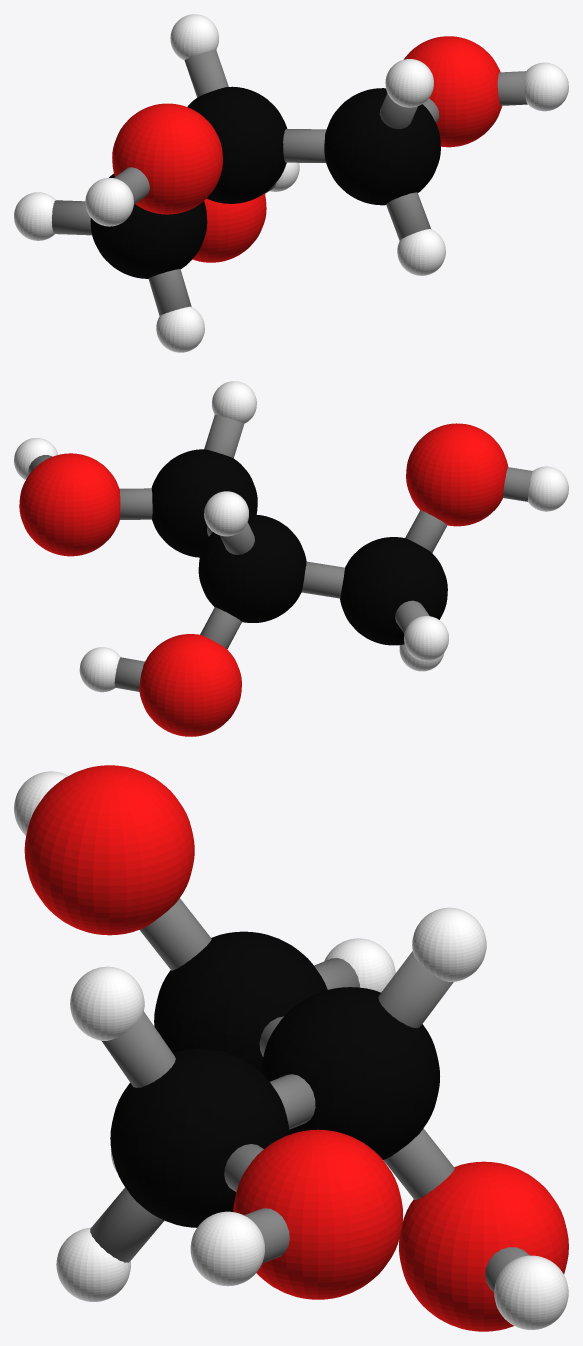
The model's file is GLICERINA.obj.
3 views of the same model, one above another, from view 1: azimuth 30°, elevation 25°; view 2: azimuth 150°, elevation 25°; view 3: azimuth 270°, elevation 25° (orthographic). The views are drawn at different scales.
Parts seen in each view (by area): view 1: Carbon_ball_Sphere, Oxygen_ball_Sphere.002, Hydrogen_ball_Sphere.001, Stick_Cylinder_Cylinder, Stick_Cylinder.009_Cylinder.009, Stick_Cylinder.002_Cylinder.002, Stick_Cylinder.007_Cylinder.007, Stick_Cylinder.006_Cylinder.006, Stick_Cylinder.004_Cylinder.004, Stick_Cylinder.001_Cylinder.001, Stick_Cylinder.011_Cylinder.011; view 2: Oxygen_ball_Sphere.002, Carbon_ball_Sphere, Hydrogen_ball_Sphere.001, Stick_Cylinder.005_Cylinder.005, Stick_Cylinder.001_Cylinder.001, Stick_Cylinder.003_Cylinder.003, Stick_Cylinder.008_Cylinder.008, Stick_Cylinder.010_Cylinder.010, Stick_Cylinder.011_Cylinder.011, Stick_Cylinder.012_Cylinder.012, Stick_Cylinder.009_Cylinder.009, Stick_Cylinder.006_Cylinder.006; view 3: Oxygen_ball_Sphere.002, Carbon_ball_Sphere, Hydrogen_ball_Sphere.001, Stick_Cylinder.009_Cylinder.009, Stick_Cylinder.002_Cylinder.002, Stick_Cylinder.001_Cylinder.001, Stick_Cylinder.008_Cylinder.008, Stick_Cylinder.010_Cylinder.010, Stick_Cylinder_Cylinder, Stick_Cylinder.004_Cylinder.004, Stick_Cylinder.006_Cylinder.006, Stick_Cylinder.003_Cylinder.003 (+1 smaller).
Boxes of the visible parts, box(x1,y1,x2,y2) form: Carbon_ball_Sphere: box(90, 86, 440, 278); Oxygen_ball_Sphere.002: box(112, 36, 502, 262); Hydrogen_ball_Sphere.001: box(14, 14, 568, 352); Stick_Cylinder_Cylinder: box(283, 129, 326, 162); Stick_Cylinder.009_Cylinder.009: box(184, 49, 228, 97); Stick_Cylinder.002_Cylinder.002: box(386, 192, 430, 240); Stick_Cylinder.007_Cylinder.007: box(148, 269, 191, 315); Stick_Cylinder.006_Cylinder.006: box(51, 200, 91, 235); Stick_Cylinder.004_Cylinder.004: box(497, 71, 527, 105); Stick_Cylinder.001_Cylinder.001: box(379, 93, 417, 129); Stick_Cylinder.011_Cylinder.011: box(114, 167, 149, 204); Oxygen_ball_Sphere.002: box(19, 423, 508, 736); Carbon_ball_Sphere: box(151, 449, 447, 645); Hydrogen_ball_Sphere.001: box(14, 381, 568, 692); Stick_Cylinder.005_Cylinder.005: box(301, 561, 344, 598); Stick_Cylinder.001_Cylinder.001: box(204, 414, 244, 458); Stick_Cylinder.003_Cylinder.003: box(119, 488, 152, 519); Stick_Cylinder.008_Cylinder.008: box(405, 510, 447, 552); Stick_Cylinder.010_Cylinder.010: box(200, 607, 241, 649); Stick_Cylinder.011_Cylinder.011: box(503, 467, 532, 501); Stick_Cylinder.012_Cylinder.012: box(114, 657, 144, 691); Stick_Cylinder.009_Cylinder.009: box(220, 522, 254, 554); Stick_Cylinder.006_Cylinder.006: box(395, 600, 429, 633); Oxygen_ball_Sphere.002: box(24, 765, 568, 1331); Carbon_ball_Sphere: box(110, 931, 439, 1227); Hydrogen_ball_Sphere.001: box(14, 771, 568, 1329); Stick_Cylinder.009_Cylinder.009: box(378, 951, 453, 1028); Stick_Cylinder.002_Cylinder.002: box(90, 1187, 164, 1262); Stick_Cylinder.001_Cylinder.001: box(101, 1011, 175, 1087); Stick_Cylinder.008_Cylinder.008: box(139, 898, 211, 970); Stick_Cylinder.010_Cylinder.010: box(383, 1128, 454, 1199); Stick_Cylinder_Cylinder: box(270, 1074, 315, 1129); Stick_Cylinder.004_Cylinder.004: box(244, 1208, 289, 1263); Stick_Cylinder.006_Cylinder.006: box(314, 958, 359, 989); Stick_Cylinder.003_Cylinder.003: box(224, 1144, 263, 1191).
Size of the model in its own units: 7.3 by 3.64 by 4.29.
